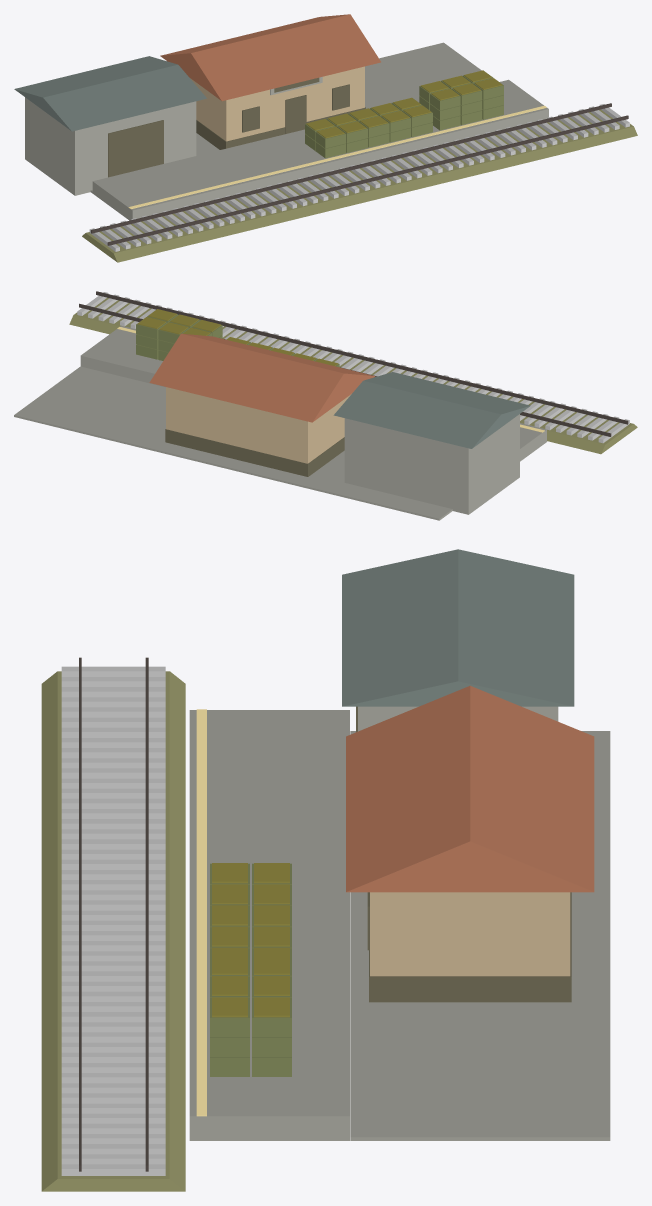
File: SM_EstacionH1_v2_Almacen_LOD0.fbx
3 views of the same model, one above another, from view 1: azimuth 30°, elevation 25°; view 2: azimuth 150°, elevation 25°; view 3: azimuth 270°, elevation 25° (orthographic). The views are drawn at different scales.
Parts seen in each view (by area): view 1: SM_estacion_h1_v2_LOD0; view 2: SM_estacion_h1_v2_LOD0; view 3: SM_estacion_h1_v2_LOD0.
Part boxes in pixels (<box>): SM_estacion_h1_v2_LOD0: <box>14,14,637,262</box>; SM_estacion_h1_v2_LOD0: <box>14,291,637,520</box>; SM_estacion_h1_v2_LOD0: <box>41,549,610,1191</box>.
Size of the model in its own units: 30 by 4.8 by 14.2.
